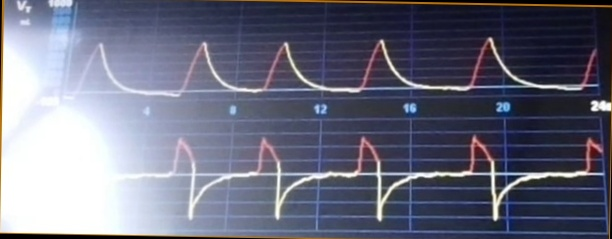Normal Flow: (117, 131, 603, 222)
Normal Volume: (68, 21, 599, 98)
